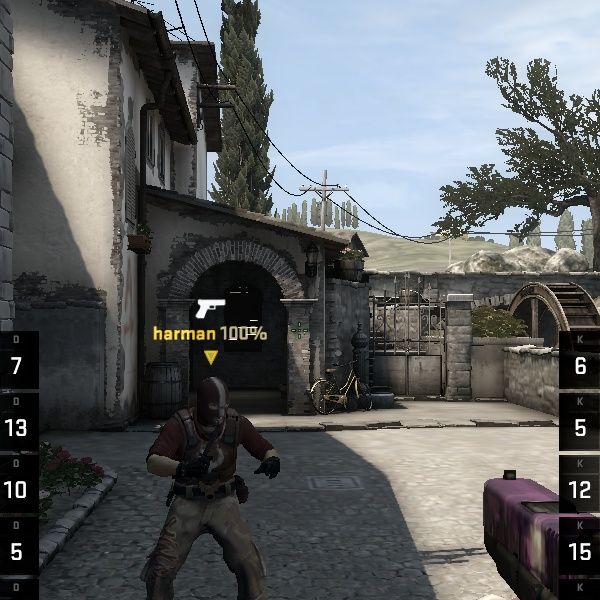t_body: (130, 369, 287, 597)
t_head: (176, 370, 243, 435)
